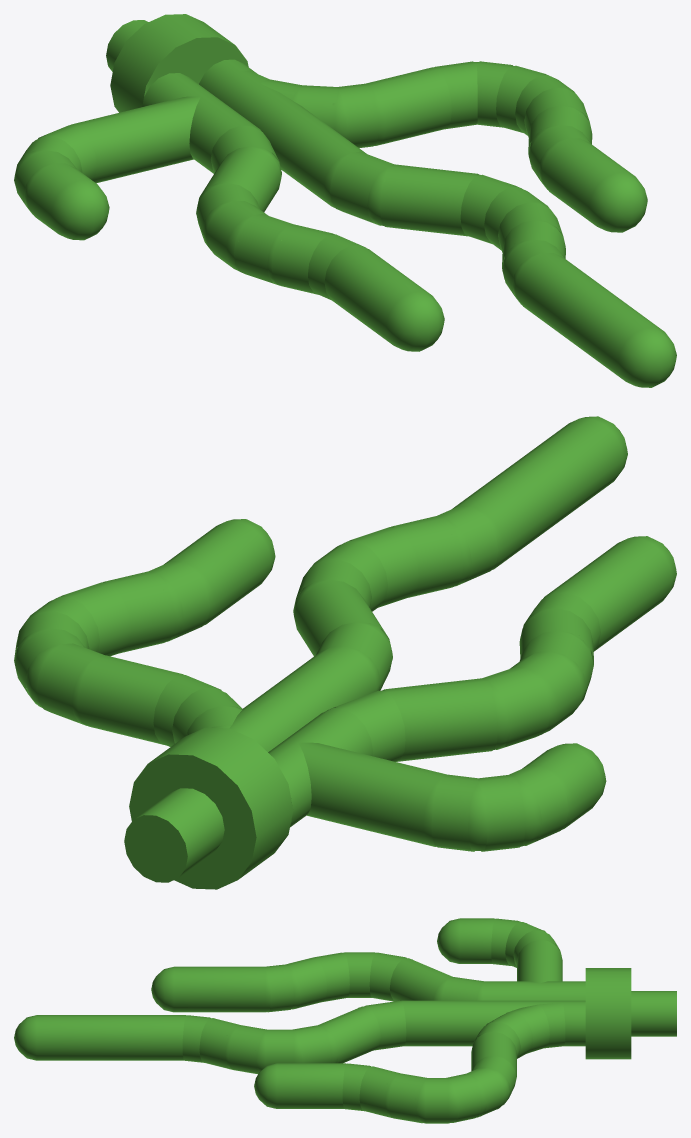
File: grass1.obj
3 renders of one model, top to bottom at view 1: azimuth 30°, elevation 25°; view 2: azimuth 150°, elevation 25°; view 3: azimuth 270°, elevation 25°, orthographic. The views are drawn at different scales.
Visible parts, largest first — view 1: Piece000; view 2: Piece000; view 3: Piece000.
Boxes of the visible parts, x1,y1,x2,y2 form: Piece000: (14, 14, 676, 387); Piece000: (14, 416, 676, 889); Piece000: (14, 918, 676, 1123).
Bounding box in the file's own units: 74 × 16 × 116.
